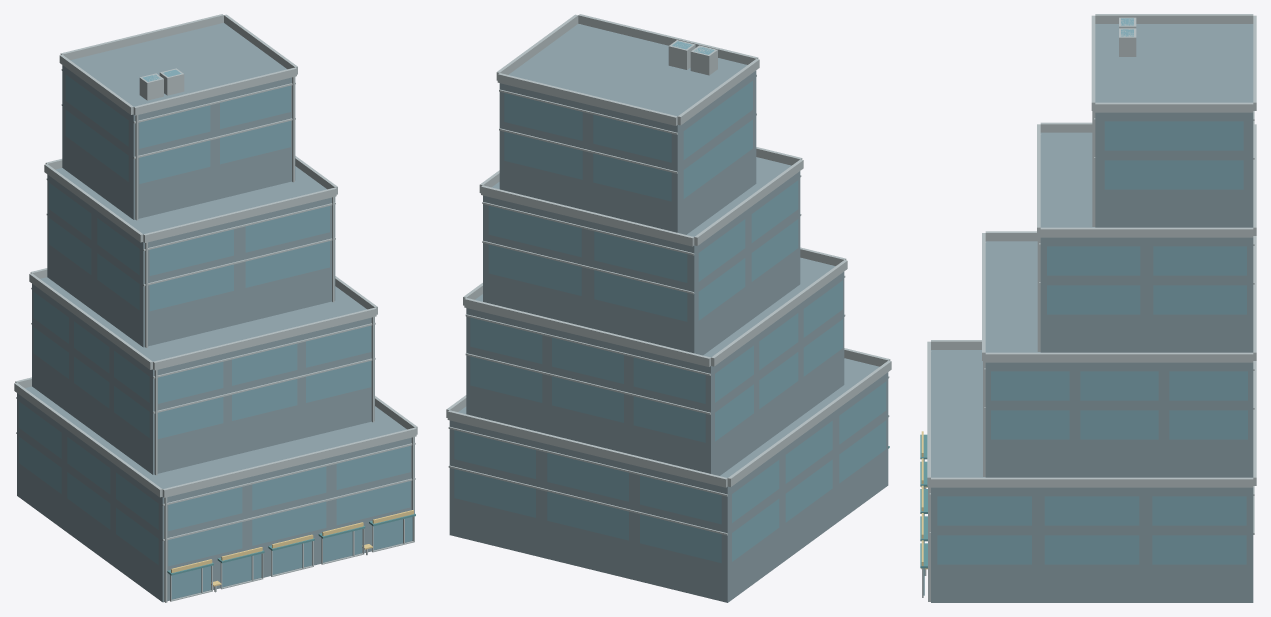
Rendered from commercial_3x3_terraces.glb.
3 views of the same model, side by side, from view 1: azimuth 30°, elevation 25°; view 2: azimuth 150°, elevation 25°; view 3: azimuth 270°, elevation 25° (orthographic). The views are drawn at different scales.
Parts seen in each view (by area): view 1: commercial_3x3_terraces_0; view 2: commercial_3x3_terraces_0; view 3: commercial_3x3_terraces_0.
Boxes of the visible parts, x1,y1,x2,y2 form: commercial_3x3_terraces_0: [14, 14, 417, 602]; commercial_3x3_terraces_0: [446, 14, 891, 602]; commercial_3x3_terraces_0: [920, 14, 1256, 602].
Size of the model in its own units: 23 by 37.5 by 23.5.
